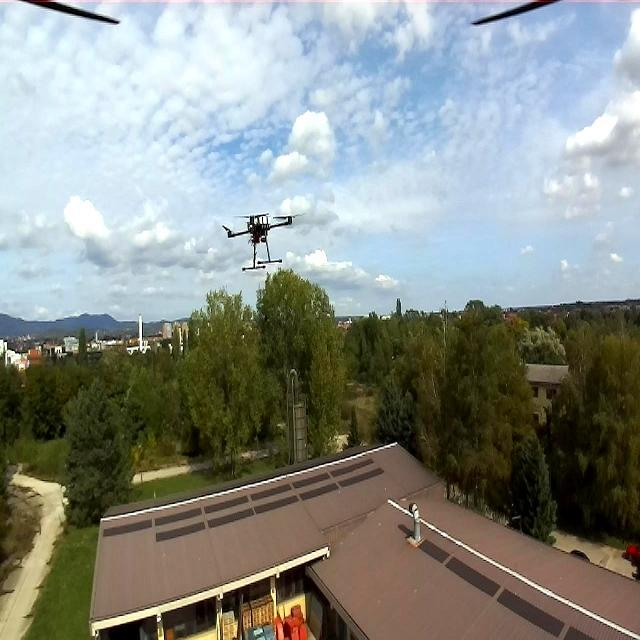drone: (223, 209, 297, 271)
